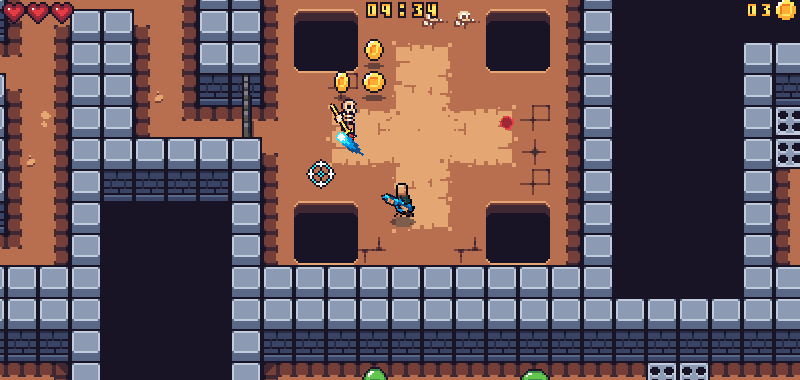enemy_skeleton: (330, 95, 359, 134)
enemy_skeleton_shoot: (497, 114, 518, 131)
gold: (362, 69, 385, 94), (362, 37, 384, 61), (330, 69, 350, 95)
trap_door: (234, 60, 258, 150)
